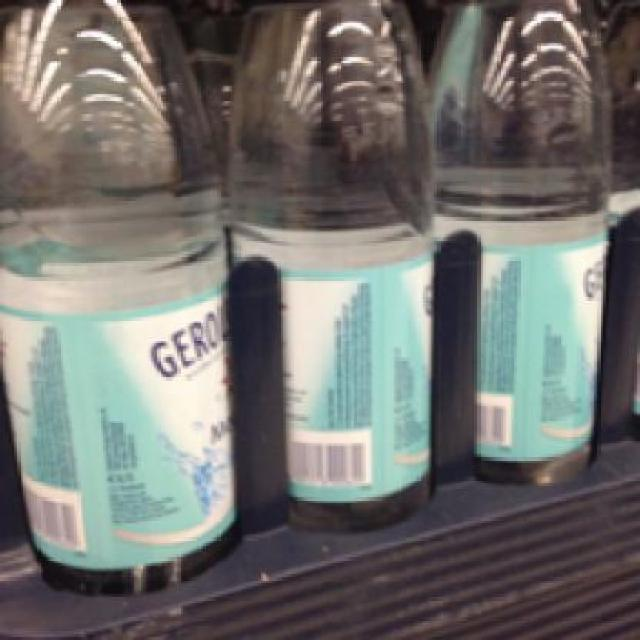Water: (0, 0, 226, 595), (226, 0, 434, 526), (426, 0, 608, 489)
